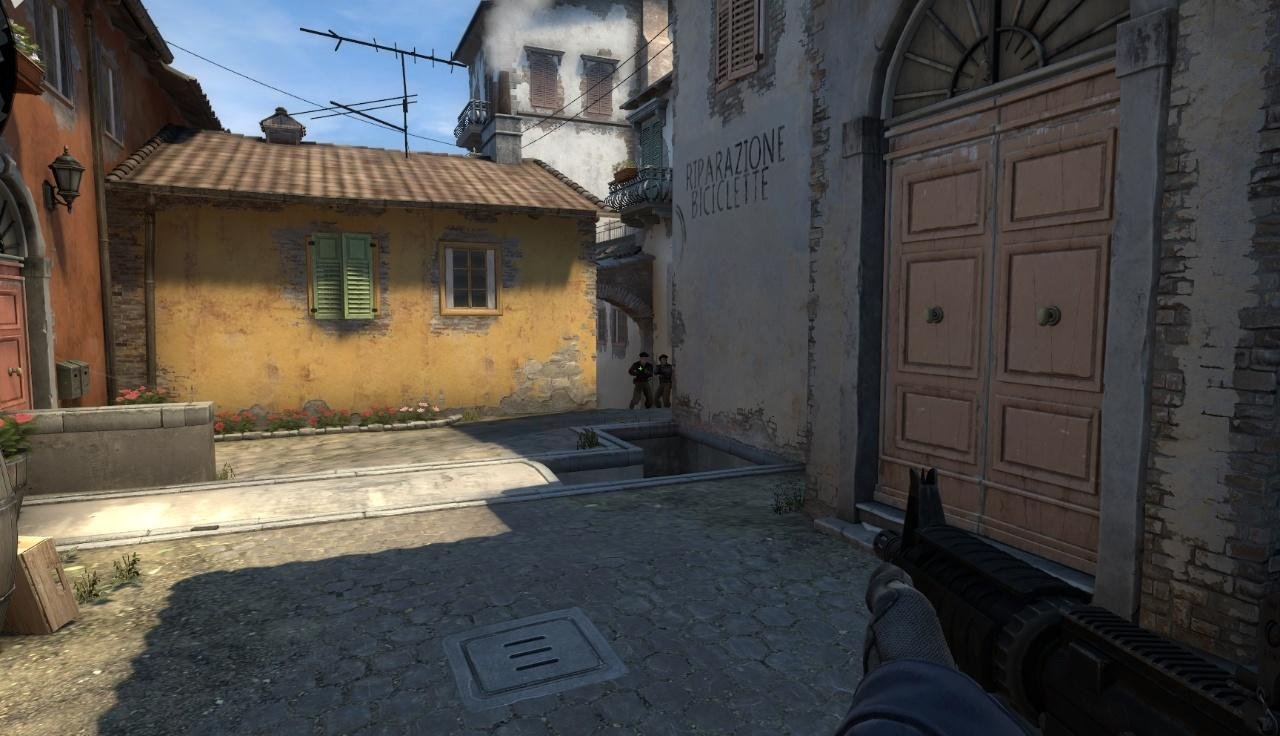rifle: (860, 470, 1280, 736)
tt: (631, 352, 653, 409), (656, 354, 671, 408)
tthead: (639, 352, 648, 365), (658, 354, 667, 366)
